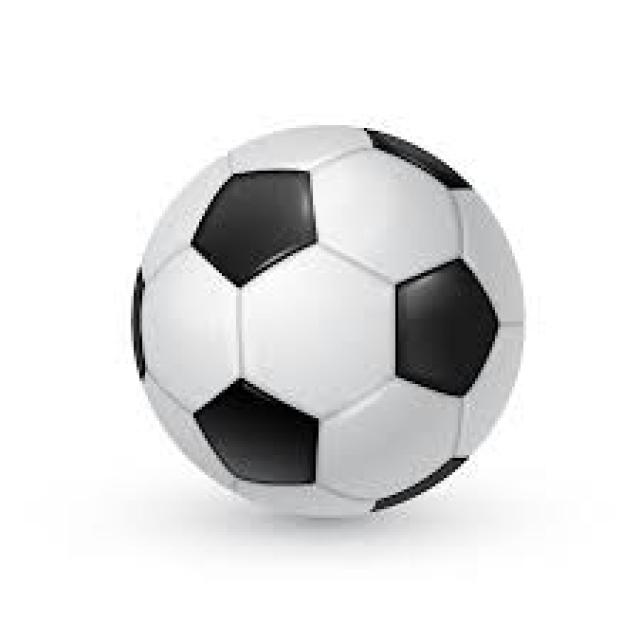football: (114, 120, 526, 524)
